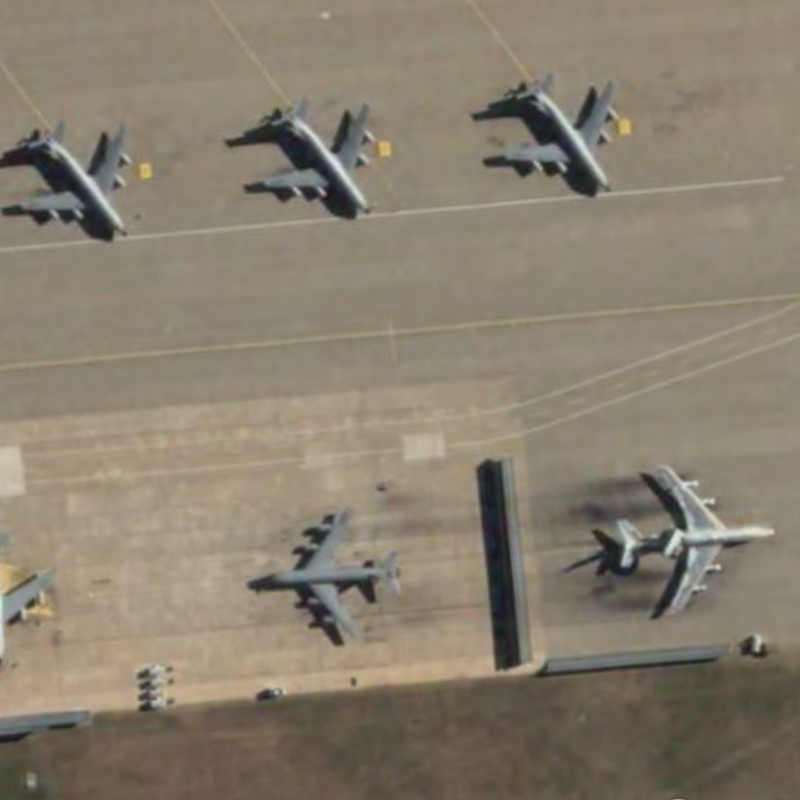A14: (256, 494, 406, 644), (483, 56, 623, 203), (244, 91, 391, 225), (4, 111, 143, 243)
A7: (615, 447, 776, 621)
